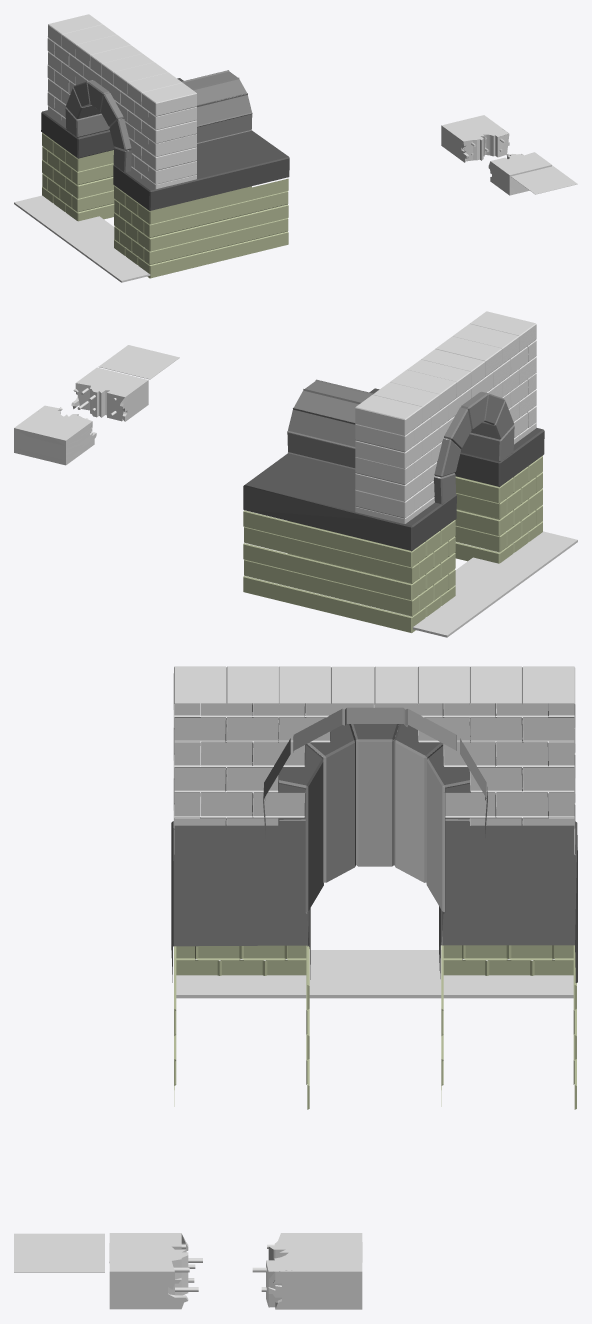
File: ProjectFrontierAssets3.fbx
3 renders of one model, top to bottom at view 1: azimuth 30°, elevation 25°; view 2: azimuth 150°, elevation 25°; view 3: azimuth 270°, elevation 25°, orthographic. The views are drawn at different scales.
Parts seen in each view (by area): view 1: Tunnel_Wall, Pillar2, Arch, Bridge2, Pillar1, FinishLine1, SteelPipes1, Bridge1, polySurface2, polySurface1; view 2: Tunnel_Wall, Pillar1, Arch, Bridge1, Pillar2, FinishLine1, SteelPipes1, polySurface2, Bridge2, polySurface1; view 3: Tunnel_Wall, Arch, Bridge2, Bridge1, FinishLine1, SteelPipes1, polySurface2, Pillar1, Pillar2, polySurface1.
Boxes of the visible parts, x1=… form: Tunnel_Wall: x1=47, y1=14, x2=196, y2=189; Pillar2: x1=114, y1=178, x2=288, y2=278; Arch: x1=65, y1=70, x2=252, y2=172; Bridge2: x1=113, y1=130, x2=289, y2=210; Pillar1: x1=42, y1=132, x2=114, y2=221; FinishLine1: x1=14, y1=195, x2=150, y2=282; SteelPipes1: x1=441, y1=115, x2=509, y2=162; Bridge1: x1=41, y1=78, x2=183, y2=158; polySurface2: x1=488, y1=152, x2=552, y2=195; polySurface1: x1=511, y1=166, x2=577, y2=194; Tunnel_Wall: x1=355, y1=311, x2=536, y2=523; Pillar1: x1=243, y1=510, x2=455, y2=632; Arch: x1=287, y1=379, x2=514, y2=504; Bridge1: x1=243, y1=453, x2=456, y2=551; Pillar2: x1=455, y1=455, x2=542, y2=563; FinishLine1: x1=397, y1=531, x2=577, y2=637; SteelPipes1: x1=14, y1=405, x2=96, y2=465; polySurface2: x1=71, y1=367, x2=148, y2=421; Bridge2: x1=369, y1=388, x2=544, y2=487; polySurface1: x1=98, y1=345, x2=179, y2=379; Tunnel_Wall: x1=173, y1=666, x2=575, y2=860; Arch: x1=263, y1=707, x2=487, y2=946; Bridge2: x1=171, y1=821, x2=310, y2=982; Bridge1: x1=439, y1=821, x2=577, y2=982; FinishLine1: x1=176, y1=950, x2=573, y2=998; SteelPipes1: x1=252, y1=1233, x2=362, y2=1309; polySurface2: x1=109, y1=1233, x2=202, y2=1309; Pillar1: x1=441, y1=945, x2=576, y2=1109; Pillar2: x1=174, y1=945, x2=309, y2=1109; polySurface1: x1=14, y1=1233, x2=104, y2=1272.
Size of the model in its own units: 16.43 by 6.63 by 10.47.
